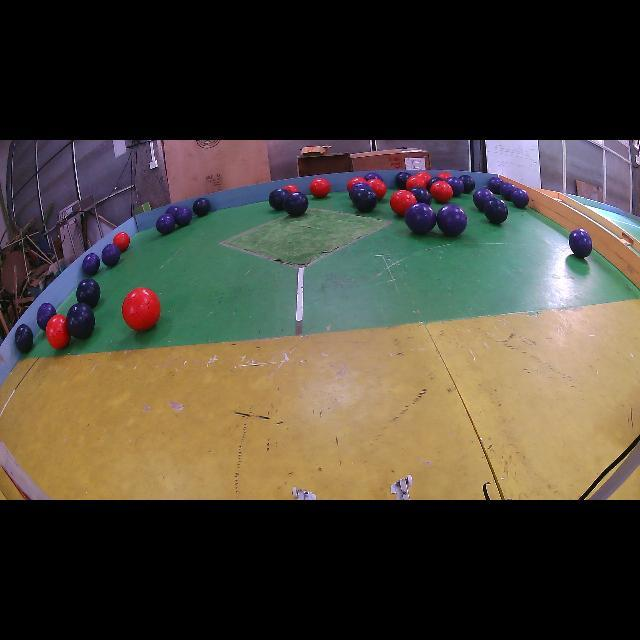B: (66, 302, 95, 340), (76, 279, 100, 308), (351, 188, 378, 212), (284, 191, 309, 216), (484, 198, 508, 224), (15, 324, 34, 354), (269, 188, 290, 211), (410, 186, 431, 205), (192, 198, 211, 216), (395, 171, 411, 190), (459, 175, 475, 193), (426, 176, 444, 191)
P: (436, 204, 468, 236), (405, 202, 436, 234), (569, 229, 592, 258), (36, 302, 56, 331), (472, 188, 494, 211), (101, 244, 121, 266), (445, 176, 464, 198), (82, 252, 100, 275), (156, 214, 175, 235), (511, 188, 529, 209), (174, 206, 192, 226), (349, 182, 371, 198), (499, 182, 515, 201), (489, 178, 502, 194), (364, 172, 382, 181), (165, 206, 179, 216)
R: (122, 288, 160, 331), (46, 315, 70, 349), (390, 190, 416, 216), (430, 180, 452, 202), (310, 178, 330, 198), (368, 179, 386, 200), (112, 232, 130, 251), (406, 175, 426, 190), (348, 176, 366, 191), (416, 171, 432, 183), (282, 185, 300, 192), (438, 171, 451, 180)
